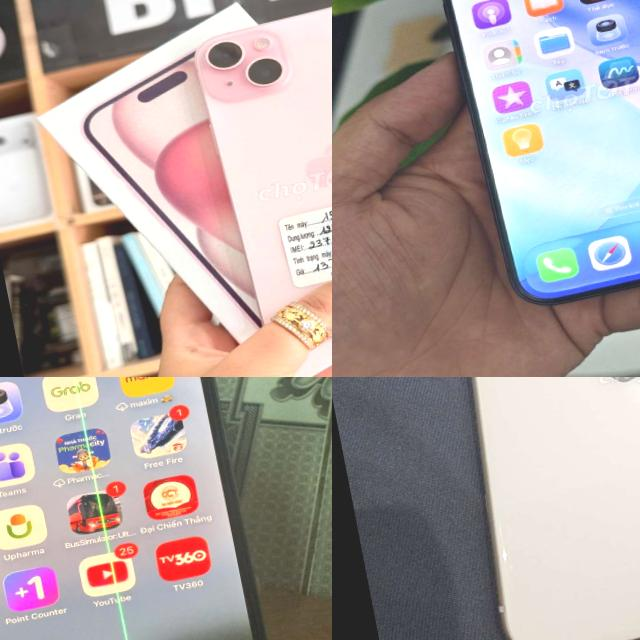screen_defect: (79, 428, 144, 640), (48, 377, 91, 429)
